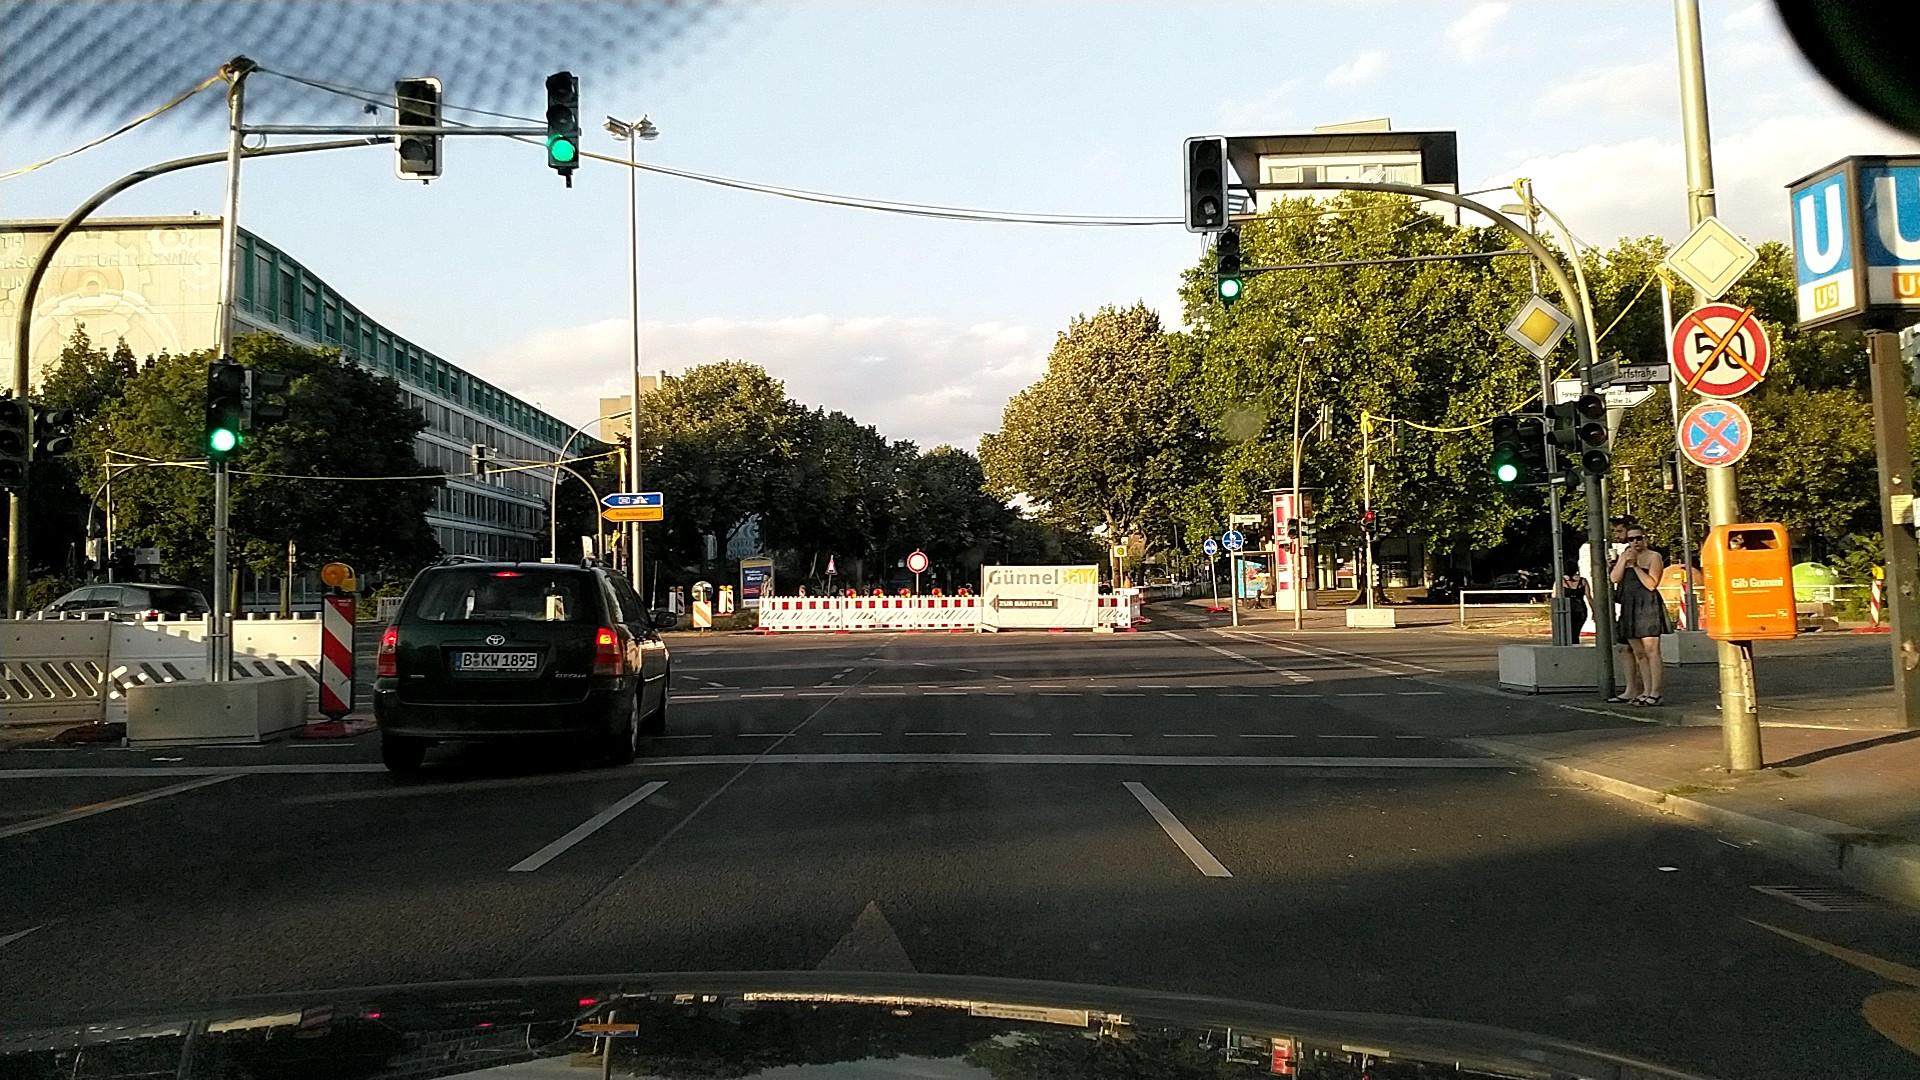Human face: (1613, 520, 1630, 543), (1627, 529, 1644, 551)
Vehicle registration plate: (454, 650, 539, 673)
